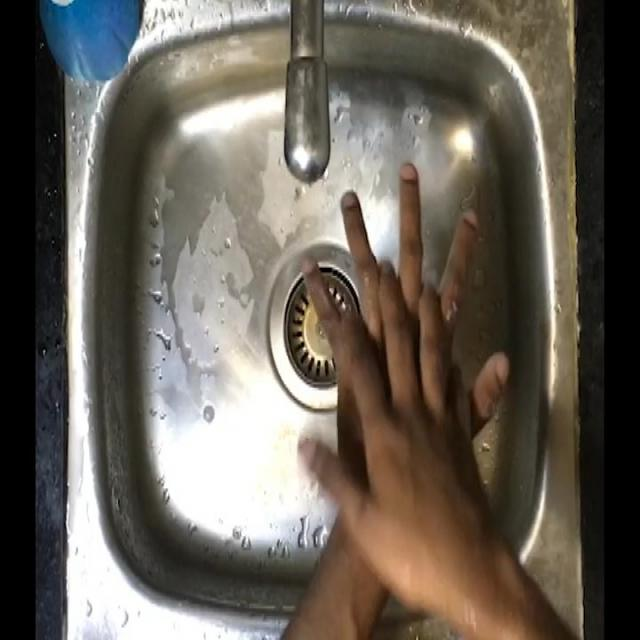step_2: (298, 153, 512, 515)
